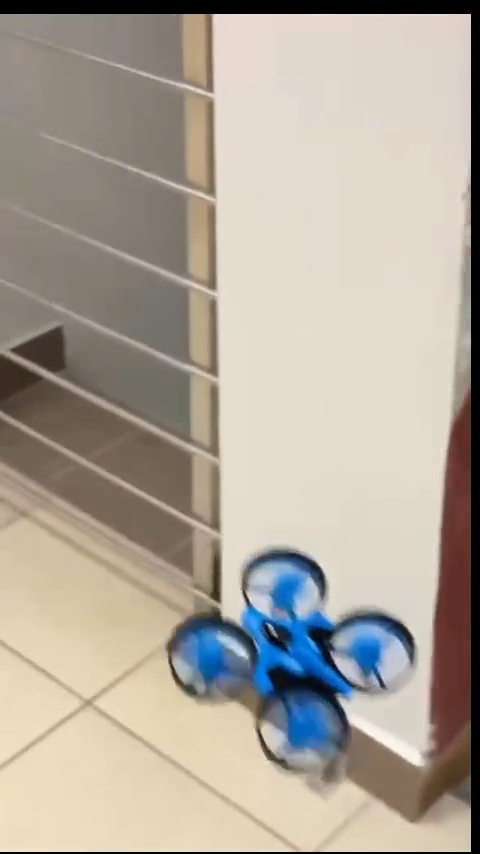drone: (174, 548, 417, 770)
